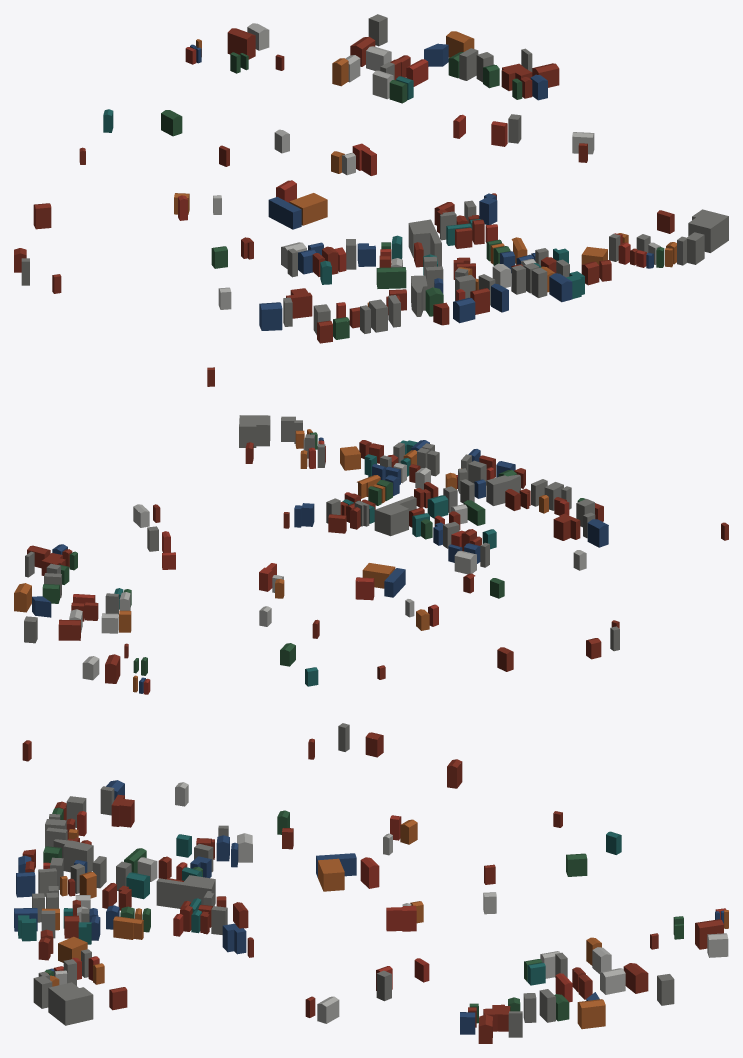
File: near-16-54719-29731.a851e019.glb
3 renders of one model, top to bottom at view 1: azimuth 30°, elevation 25°; view 2: azimuth 150°, elevation 25°; view 3: azimuth 270°, elevation 25°, orthographic. The views are drawn at different scales.
Bounding box in the file's own units: 587 × 33.9 × 590.
